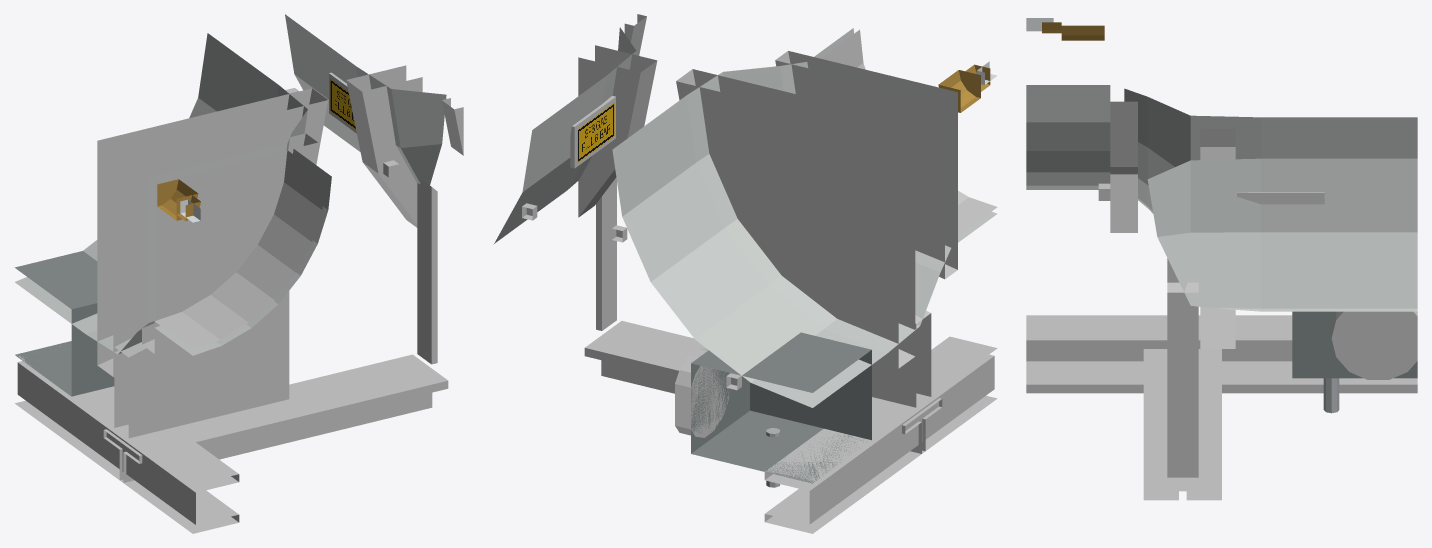
The model's file is cell_51.obj.
3 views of the same model, side by side, from view 1: azimuth 30°, elevation 25°; view 2: azimuth 150°, elevation 25°; view 3: azimuth 270°, elevation 25° (orthographic). The views are drawn at different scales.
Size of the model in its own units: 1 by 1 by 1.
